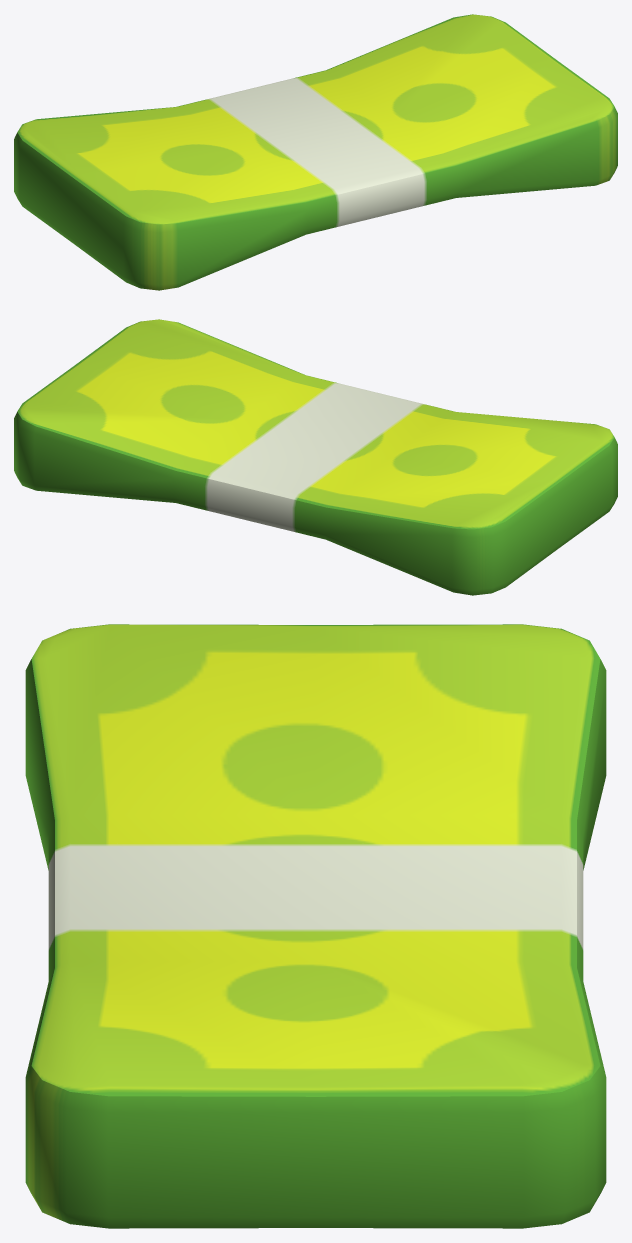
File: money.fbx
3 views of the same model, one above another, from view 1: azimuth 30°, elevation 25°; view 2: azimuth 150°, elevation 25°; view 3: azimuth 270°, elevation 25° (orthographic). The views are drawn at different scales.
Parts seen in each view (by area): view 1: green money; view 2: green money; view 3: green money.
Part boxes in pixels (<box>): green money: <box>14,14,617,290</box>; green money: <box>14,319,617,595</box>; green money: <box>25,624,606,1228</box>.
Size of the model in its own units: 133 by 18.71 by 68.56.
Materials: 1 (1 with a texture image).
